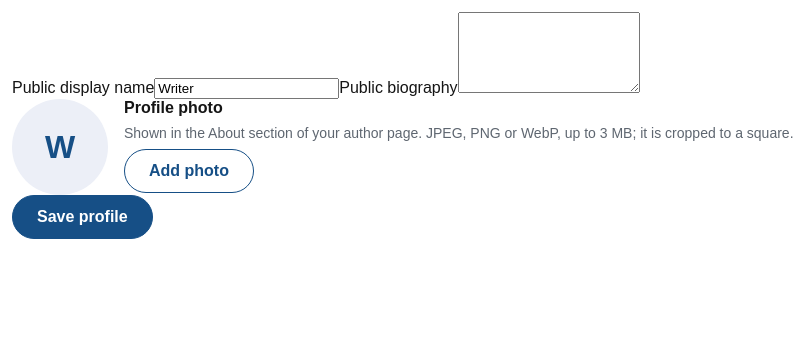
Test: retains input and offers explicit reload on conflict
Type "Unsaved text" into the text box labelled "Public biography".
click(549, 52); type("Unsaved text")  # box [458,12,640,93]
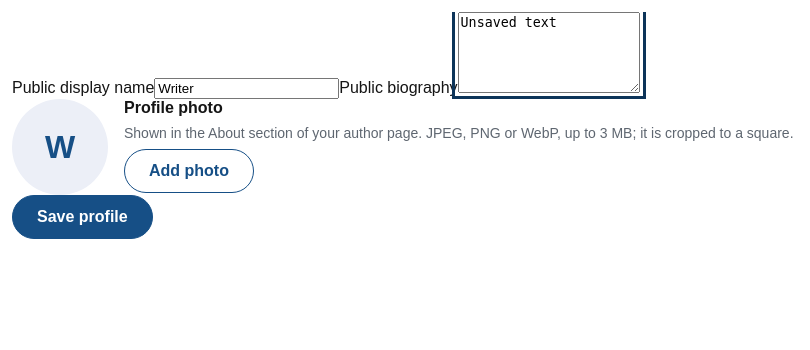
Click the button "Save profile".
click(82, 217)  # box [12,195,153,239]
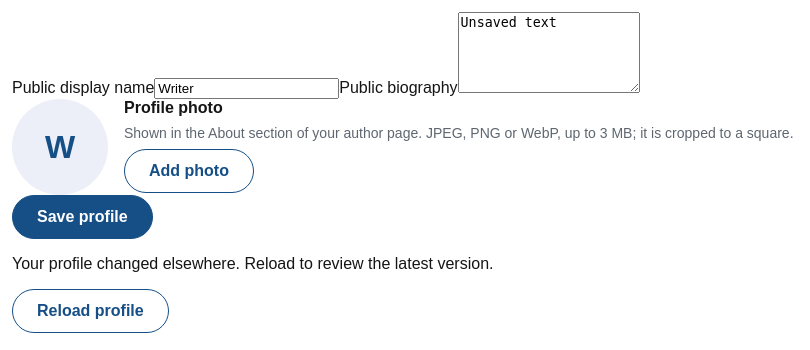
expect the button "Reload profile" is shown: met, box [12,289,169,333]
